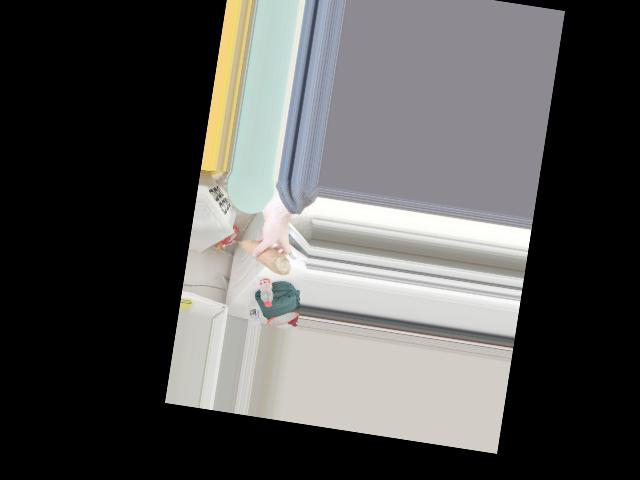sweet_potato: (238, 233, 291, 277)
